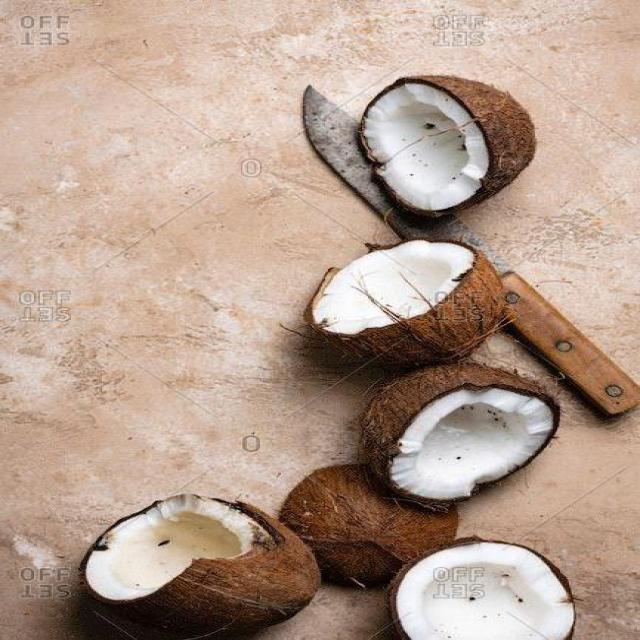coconut: (79, 494, 322, 632), (359, 368, 563, 497), (356, 73, 537, 213), (309, 238, 504, 362), (381, 534, 579, 640)
